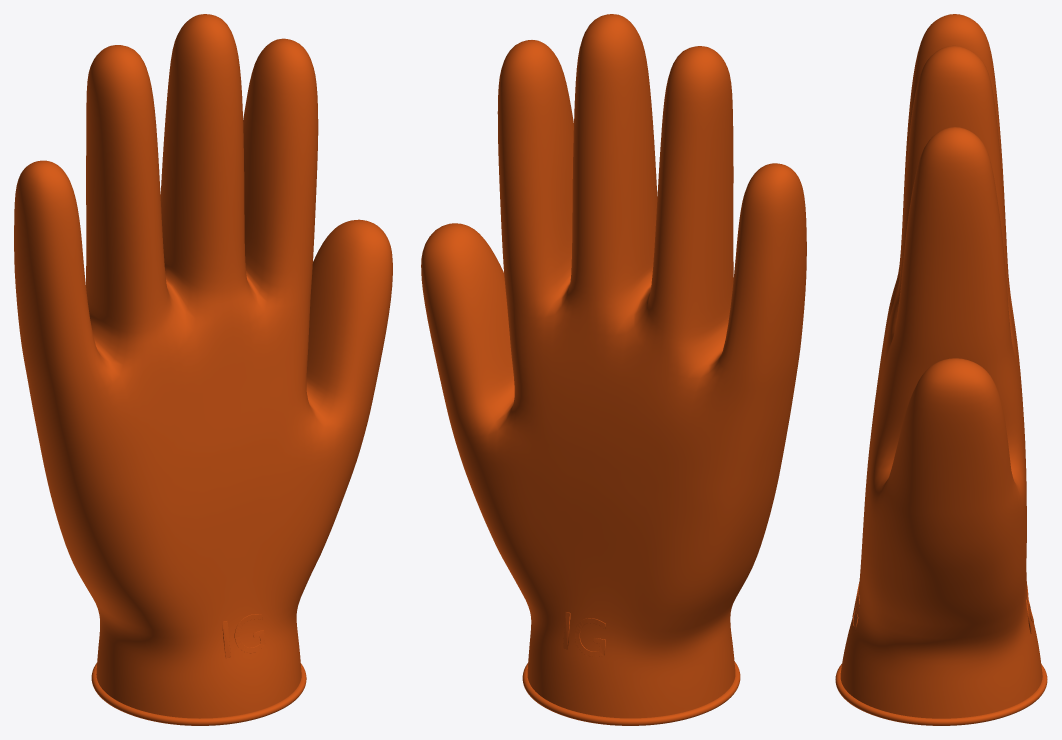
The model's file is diamond-8-mil--orange.glb.
3 views of the same model, side by side, from view 1: azimuth 30°, elevation 25°; view 2: azimuth 150°, elevation 25°; view 3: azimuth 270°, elevation 25° (orthographic). The views are drawn at different scales.
Visible parts, largest first — view 1: pCube8, IG cuff front; view 2: pCube8, IG cuff back; view 3: pCube8.
Part boxes in pixels (x1,y1,x2,y2): pCube8: [14, 14, 392, 725]; IG cuff front: [222, 614, 265, 658]; pCube8: [421, 14, 806, 725]; IG cuff back: [563, 611, 605, 656]; pCube8: [835, 14, 1047, 725].
Size of the model in its own units: 0.1386 by 0.2392 by 0.0717.
